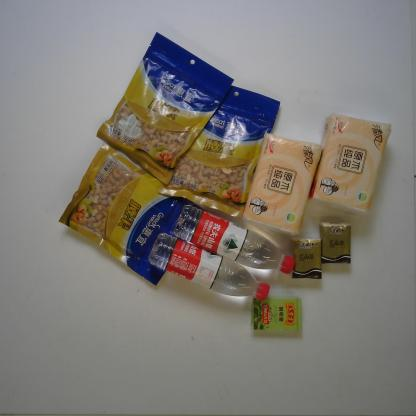Candy: (250, 296, 302, 332)
Dried Fruit: (57, 141, 207, 288), (97, 31, 236, 186), (156, 85, 282, 219)
Drink: (172, 203, 297, 277), (148, 232, 271, 302)
Tissue: (306, 110, 393, 216), (240, 132, 323, 237), (318, 220, 352, 265), (291, 238, 323, 280)
